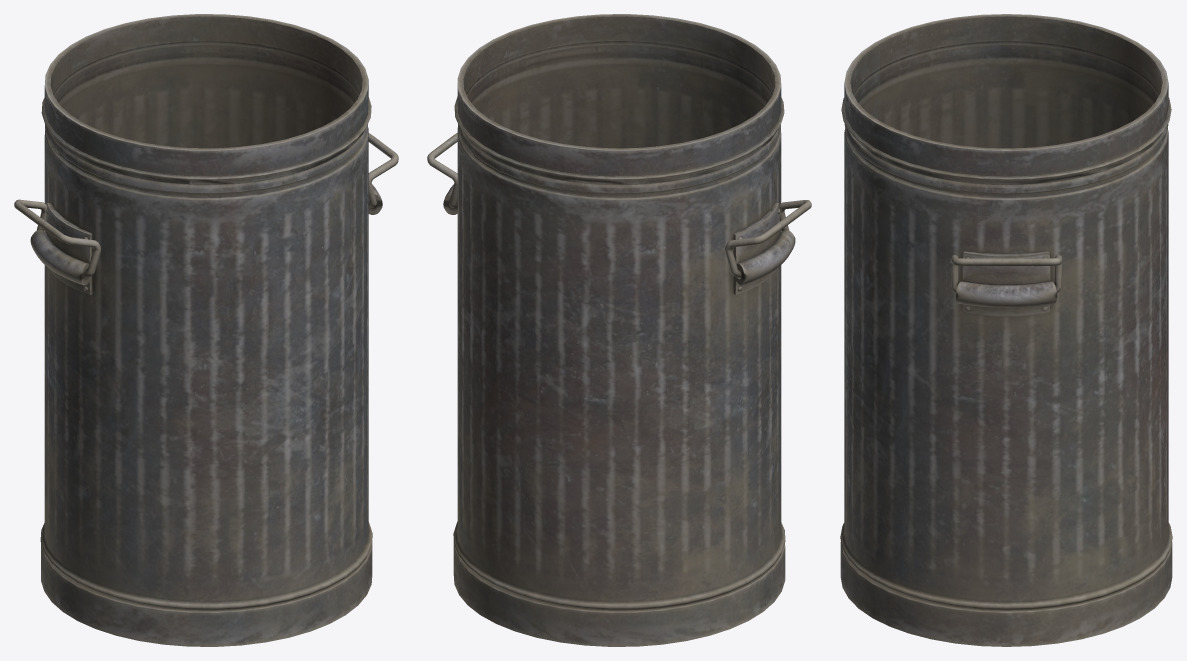
The model's file is trash_can_metal.gltf.
3 views of the same model, side by side, from view 1: azimuth 30°, elevation 25°; view 2: azimuth 150°, elevation 25°; view 3: azimuth 270°, elevation 25° (orthographic).
Parts seen in each view (by area): view 1: metal_trash_can, metal_trash_can_handle_left, metal_trash_can_handle_right; view 2: metal_trash_can, metal_trash_can_handle_left, metal_trash_can_handle_right; view 3: metal_trash_can, metal_trash_can_handle_right.
Part boxes in pixels (box(x1,y1,x2,y2)): metal_trash_can: box(30, 14, 382, 646); metal_trash_can_handle_left: box(14, 199, 100, 277); metal_trash_can_handle_right: box(368, 133, 398, 208); metal_trash_can: box(443, 14, 795, 646); metal_trash_can_handle_left: box(725, 200, 811, 277); metal_trash_can_handle_right: box(427, 132, 457, 208); metal_trash_can: box(840, 14, 1172, 646); metal_trash_can_handle_right: box(950, 255, 1062, 292).
Size of the model in its own units: 0.651 by 0.9062 by 0.5524.
Materials: 1 (1 with a texture image).
